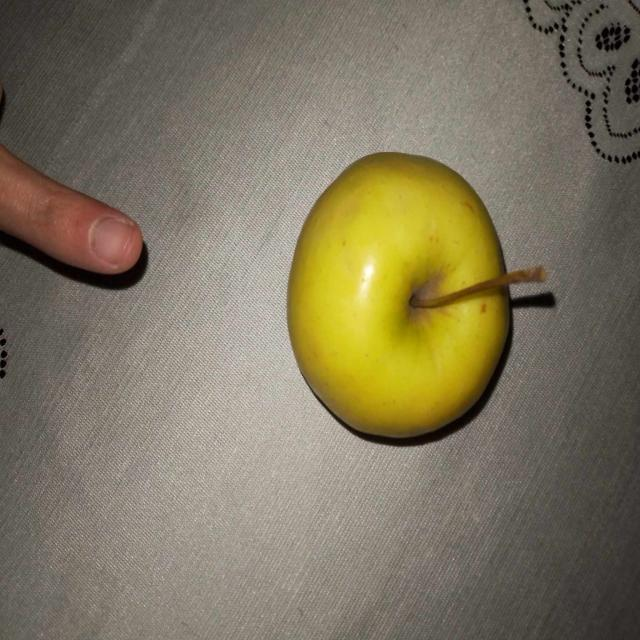Apple: (282, 142, 554, 466)
Finger: (3, 133, 153, 294)
